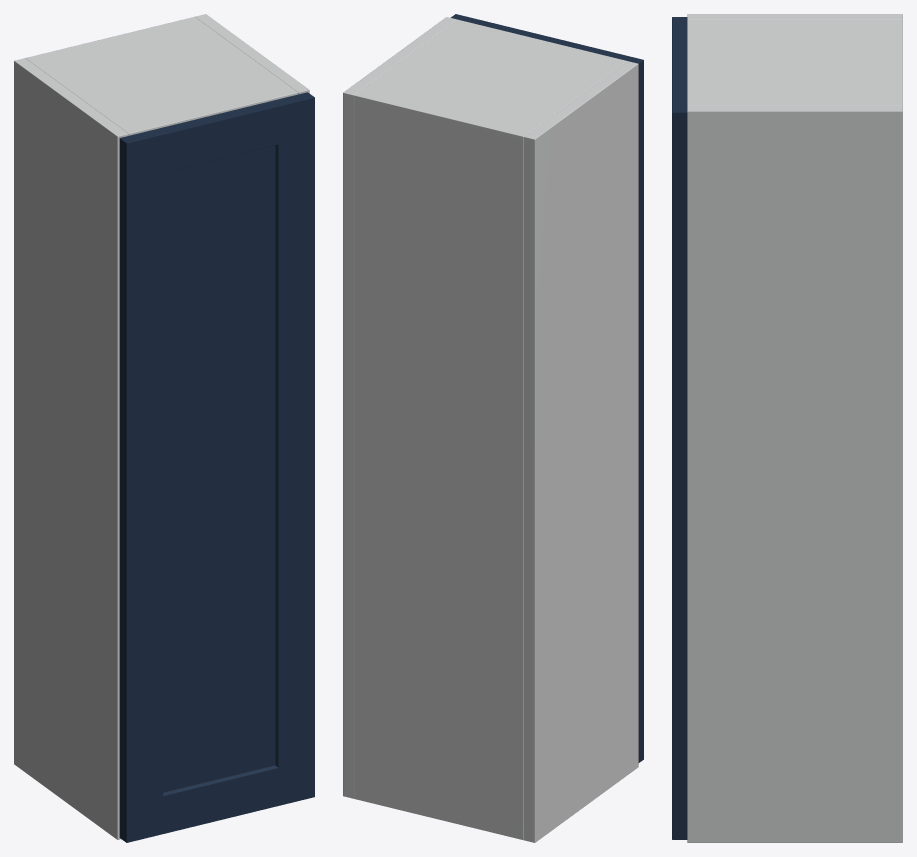
File: oppein-pb-bss-w1242.glb
3 renders of one model, left to right at view 1: azimuth 30°, elevation 25°; view 2: azimuth 150°, elevation 25°; view 3: azimuth 270°, elevation 25°, orthographic. The views are drawn at different scales.
Parts seen in each view (by area): view 1: Door, Cabinet side, Cabinet top, Cabinet side.001; view 2: Cabinet back, Cabinet side, Cabinet top, Cabinet side.001, Door, Cabinet bottom; view 3: Cabinet side.001, Cabinet top, Door, Cabinet side.
Part boxes in pixels (x1,y1,x2,y2): Door: [119, 92, 314, 842]; Cabinet side: [14, 58, 128, 839]; Cabinet top: [25, 16, 297, 135]; Cabinet side.001: [195, 14, 309, 94]; Cabinet back: [354, 96, 523, 839]; Cabinet side: [524, 61, 638, 842]; Cabinet top: [354, 19, 626, 147]; Cabinet side.001: [343, 17, 457, 798]; Door: [450, 14, 643, 762]; Cabinet bottom: [354, 788, 523, 840]; Cabinet side.001: [687, 105, 902, 842]; Cabinet top: [687, 19, 902, 105]; Door: [672, 17, 687, 839]; Cabinet side: [687, 14, 902, 19].
Size of the model in its own units: 0.3048 by 1.07 by 0.3048.
